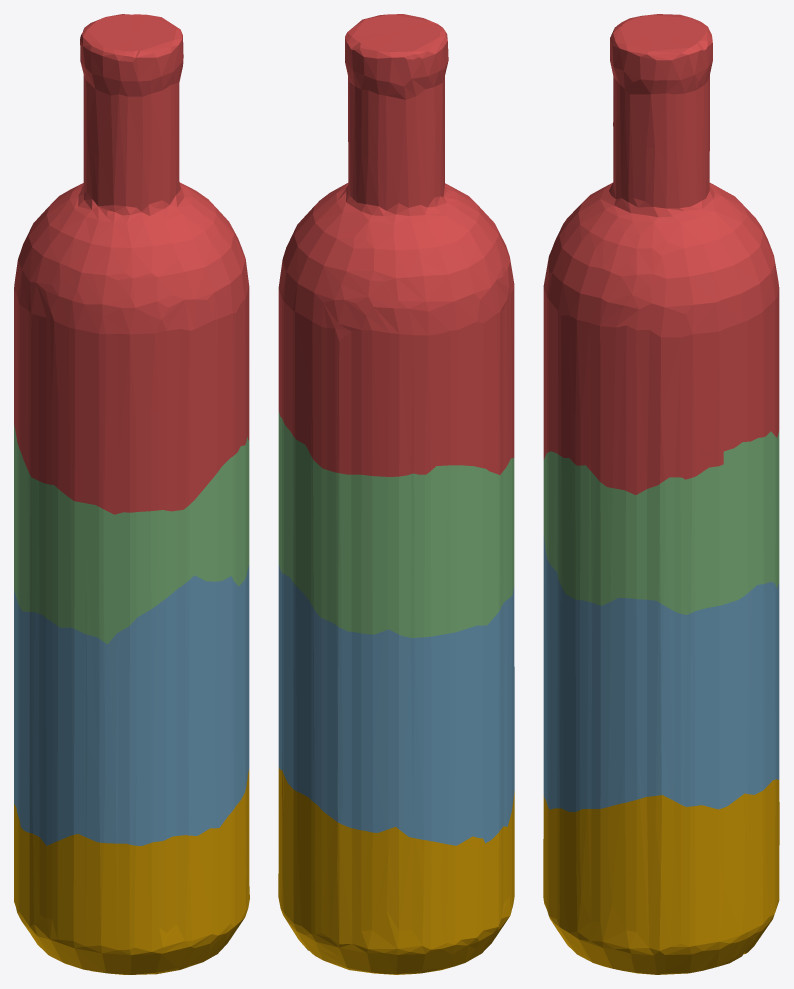
File: fractured_13_4pcs.glb
The picture shows the model from 3 angles, left to right: view 1: azimuth 30°, elevation 25°; view 2: azimuth 150°, elevation 25°; view 3: azimuth 270°, elevation 25°; orthographic projection.
Visible parts, largest first — view 1: piece_1.obj, piece_2.obj, piece_0.obj, piece_3.obj; view 2: piece_1.obj, piece_2.obj, piece_3.obj, piece_0.obj; view 3: piece_1.obj, piece_2.obj, piece_0.obj, piece_3.obj.
Boxes of the visible parts, x1,y1,x2,y2 form: piece_1.obj: (14, 14, 249, 514); piece_2.obj: (14, 565, 249, 845); piece_0.obj: (14, 769, 249, 974); piece_3.obj: (14, 424, 249, 644); piece_1.obj: (278, 14, 514, 476); piece_2.obj: (278, 564, 514, 845); piece_3.obj: (278, 411, 514, 637); piece_0.obj: (278, 767, 514, 974); piece_1.obj: (543, 14, 779, 494); piece_2.obj: (543, 535, 779, 812); piece_0.obj: (543, 779, 779, 974); piece_3.obj: (543, 431, 779, 614).
Size of the model in its own units: 0.237 by 1 by 0.2368.
